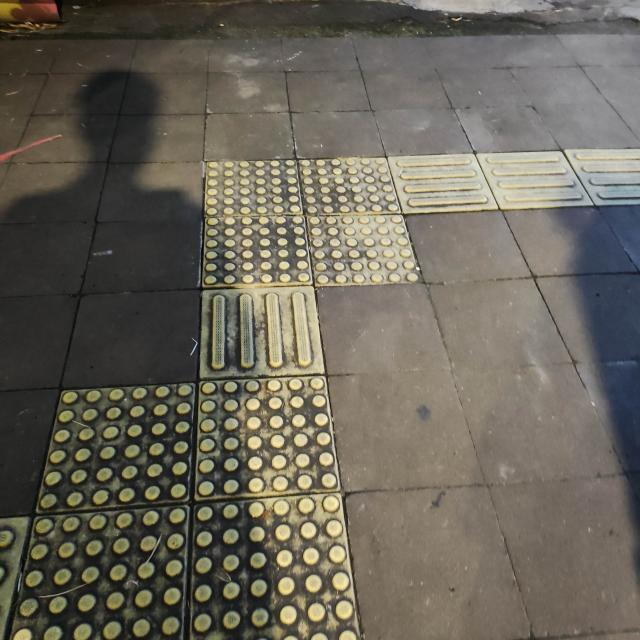kanan: (127, 124, 559, 317)
